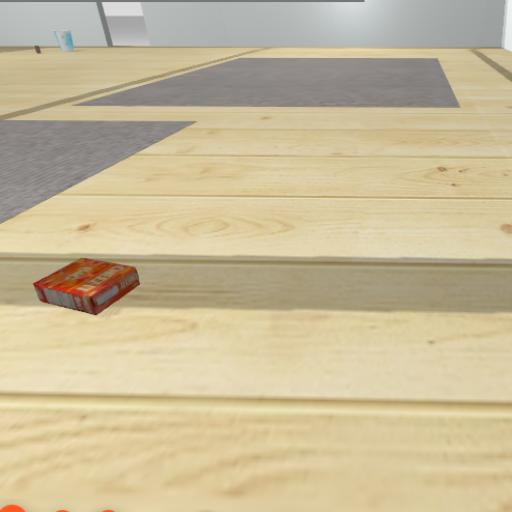BOX_R: (26, 213, 159, 348)
